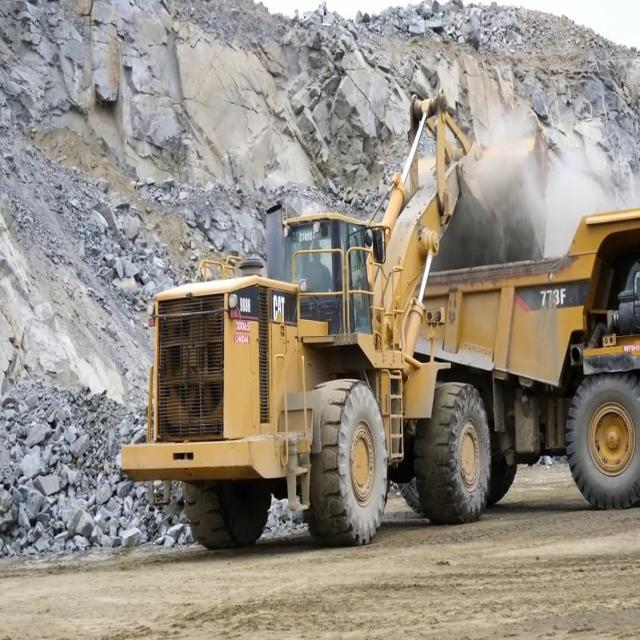Dump Truck: (413, 203, 639, 507)
Loader: (118, 89, 550, 550)
